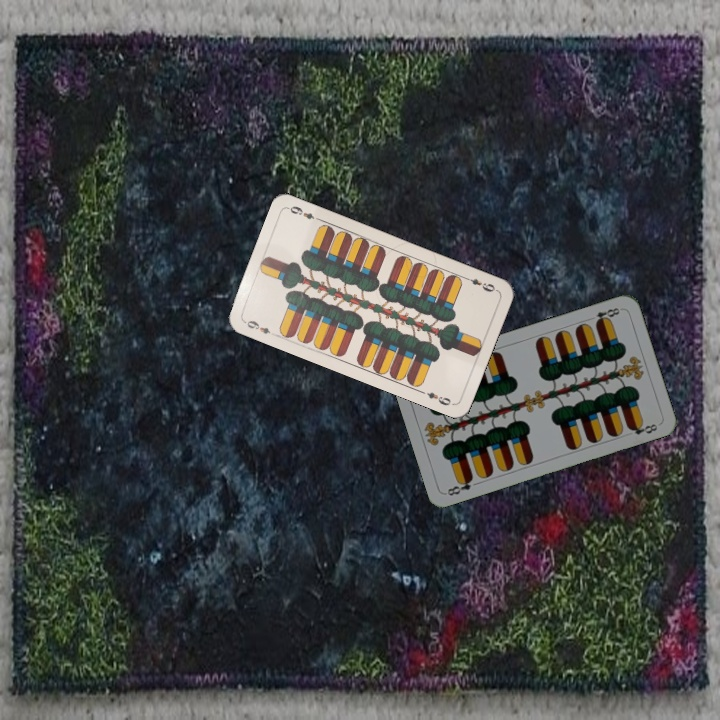E8: (443, 473, 476, 498), (591, 304, 624, 327)
E9: (460, 272, 499, 295), (240, 316, 279, 339)
